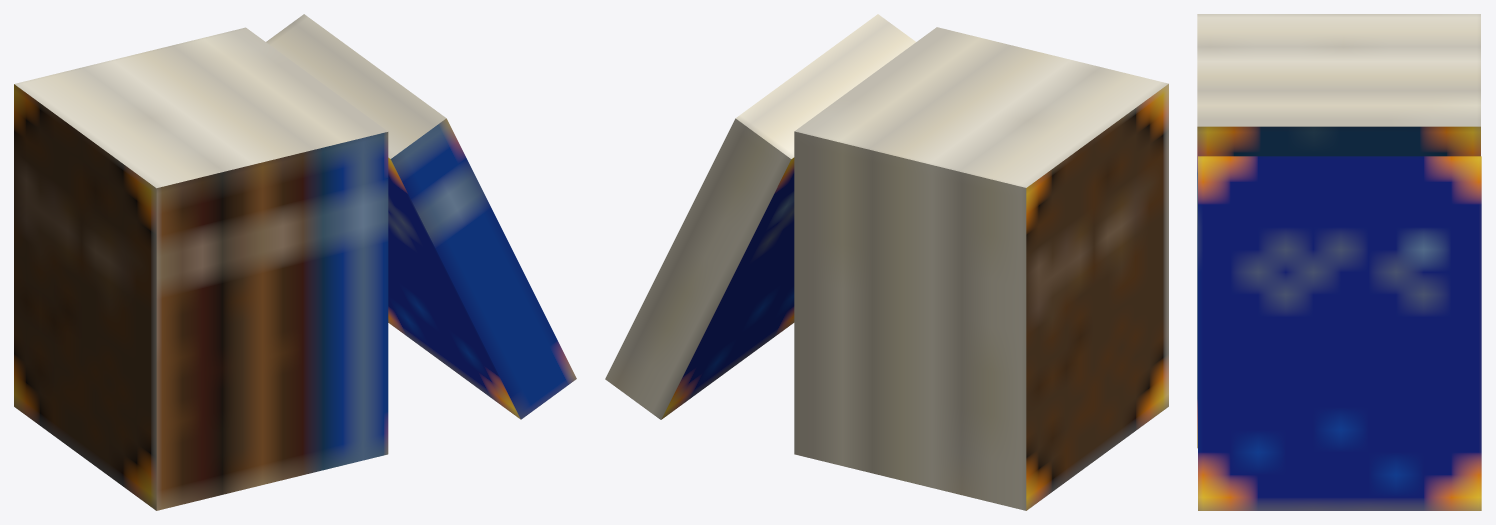
3 views of the same model, side by side, from view 1: azimuth 30°, elevation 25°; view 2: azimuth 150°, elevation 25°; view 3: azimuth 270°, elevation 25° (orthographic).
Visible parts, largest first — view 1: a54; view 2: a54; view 3: a54.
Boxes of the visible parts, <box> form: a54: <box>14,14,576,510</box>; a54: <box>605,14,1168,510</box>; a54: <box>1197,14,1481,510</box>.
Size of the model in its own units: 130 by 95.27 by 76.37.
